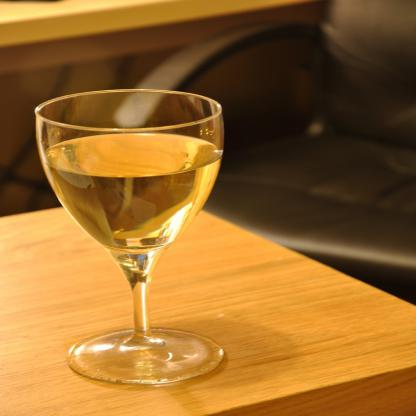drinking: (36, 89, 225, 384)
